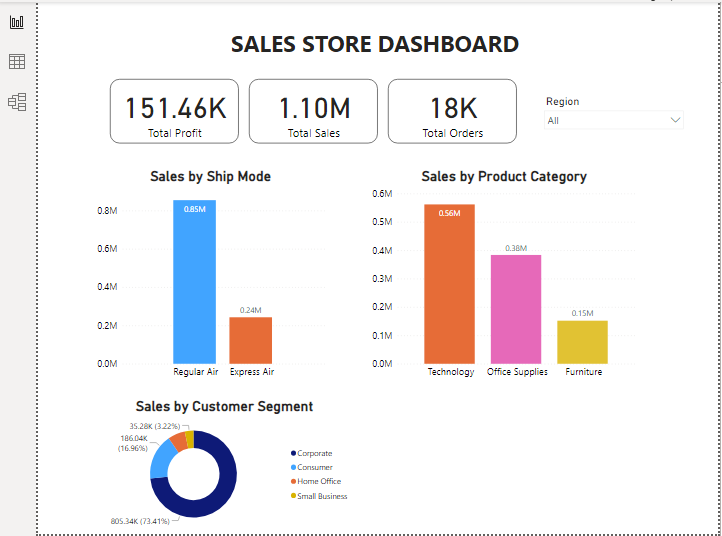

Layout of this report page (visuals, bound fields, positions):
{"tool":"powerbi","page":{"name":"Page 1","canvas":[1280,1000],"ordinal":0},"visuals":[{"type":"textbox","box":[357.3,43.5,567.2,85.1],"z":0},{"type":"card","fields":{"Values":["Sum(Salesstore.Profit)"]},"box":[134.8,145.6,242,121],"z":1000},{"type":"card","fields":{"Values":["Sum(Salesstore.Sales)"]},"box":[395.7,145.6,242,121],"z":2000},{"type":"card","fields":{"Values":["Sum(Salesstore.Order_Quantity)"]},"box":[658.5,145.6,242,121],"z":3000},{"type":"columnChart","title":"Sales by Ship Mode","fields":{"Category":["Salesstore.Ship_Mode"],"Y":["Sum(Salesstore.Sales)"]},"box":[105.9,312,438.6,404.6],"z":4000},{"type":"columnChart","title":"Sales by Product Category","fields":{"Category":["Salesstore.Product_Category"],"Y":["Sum(Salesstore.Sales)"]},"box":[622,312,508.6,404.6],"z":5000},{"type":"donutChart","title":"Sales by Customer Segment","fields":{"Y":["Sum(Salesstore.Sales)"],"Category":["Salesstore.Customer_Segment"]},"box":[105.3,744.4,490.6,255.6],"z":6000},{"type":"slicer","fields":{"Values":["Salesstore.Region"]},"box":[941.7,169.2,282,73.3],"z":7000}]}

Visuals, with their boxes in screenshot pixels (x1, y1, x2, y2):
textbox: l=179, t=0, r=501, b=37
card - Sum(Salesstore.Profit): l=52, t=47, r=190, b=116
card - Sum(Salesstore.Sales): l=200, t=47, r=338, b=116
card - Sum(Salesstore.Order_Quantity): l=350, t=47, r=487, b=116
"Sales by Ship Mode" columnChart: l=36, t=141, r=285, b=371
"Sales by Product Category" columnChart: l=329, t=141, r=618, b=371
"Sales by Customer Segment" donutChart: l=35, t=387, r=314, b=532
slicer - Salesstore.Region: l=510, t=60, r=671, b=102
